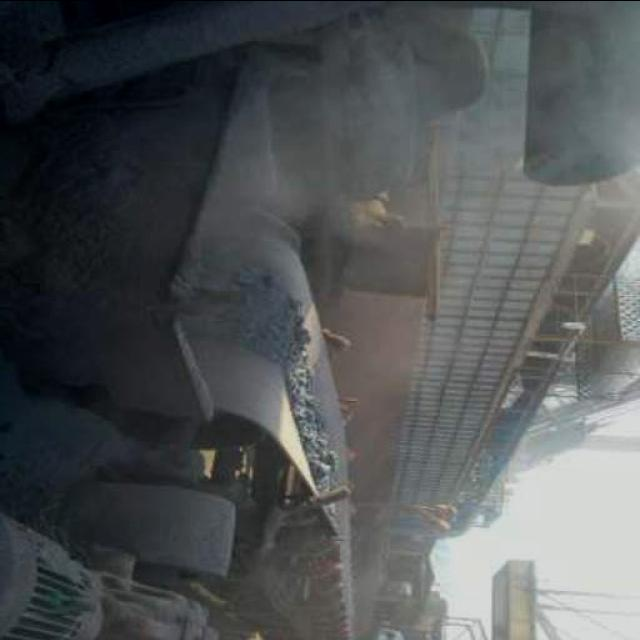conveyor: (177, 192, 348, 640)
